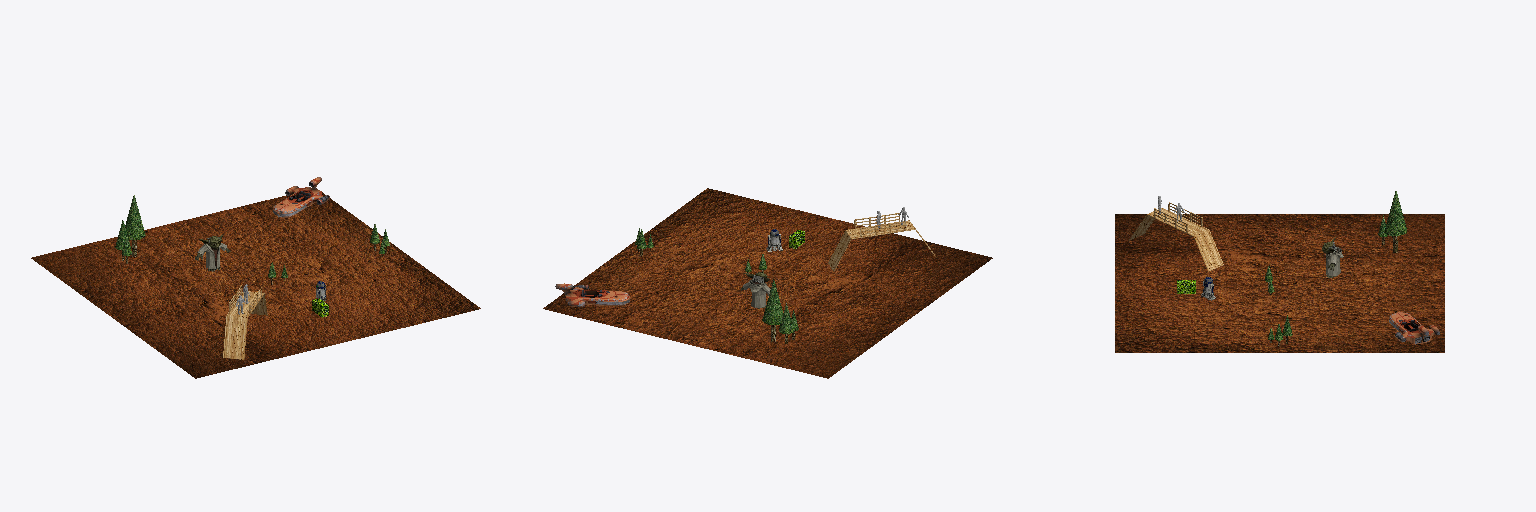
3 views of the same model, side by side, from view 1: azimuth 30°, elevation 25°; view 2: azimuth 150°, elevation 25°; view 3: azimuth 270°, elevation 25° (orthographic).
Visible parts, largest first — view 1: Plane, polySurface1_Untitled, Landspeeder, Yoda, Cone22; view 2: Plane, polySurface1_Untitled, Landspeeder, Cone22, Yoda; view 3: Plane, polySurface1_Untitled, Landspeeder, Cone22, Yoda.
Part boxes in pixels (left/top/right/bottom): Plane: left=31, top=188, right=480, bottom=378; polySurface1_Untitled: left=223, top=285, right=267, bottom=359; Landspeeder: left=273, top=177, right=329, bottom=217; Yoda: left=195, top=234, right=230, bottom=271; Cone22: left=125, top=195, right=145, bottom=257; Plane: left=543, top=188, right=992, bottom=378; polySurface1_Untitled: left=828, top=213, right=935, bottom=271; Landspeeder: left=555, top=283, right=629, bottom=306; Cone22: left=762, top=279, right=782, bottom=341; Yoda: left=741, top=272, right=770, bottom=308; Plane: left=1115, top=214, right=1444, bottom=352; polySurface1_Untitled: left=1129, top=202, right=1223, bottom=271; Landspeeder: left=1389, top=312, right=1439, bottom=344; Cone22: left=1385, top=191, right=1406, bottom=252; Yoda: left=1322, top=237, right=1343, bottom=277.
Size of the model in its own units: 97.54 by 23.3 by 97.54.
Materials: 27 (10 with a texture image).